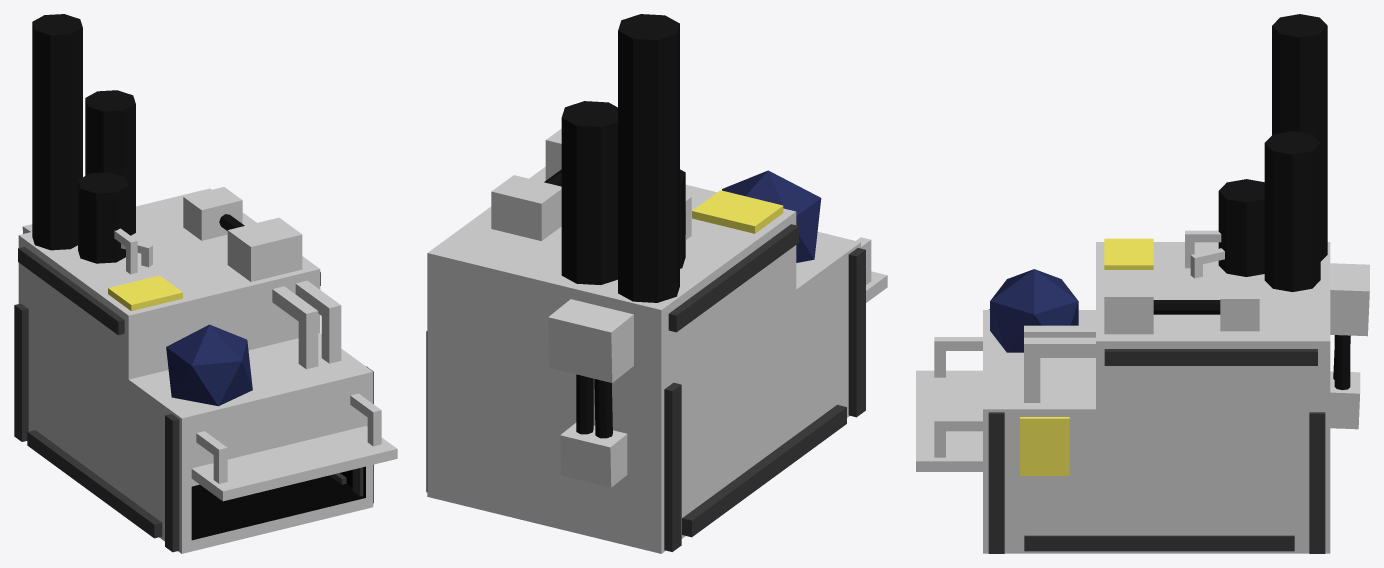
3 renders of one model, left to right at view 1: azimuth 30°, elevation 25°; view 2: azimuth 150°, elevation 25°; view 3: azimuth 270°, elevation 25°, orthographic. The views are drawn at different scales.
Visible parts, largest first — view 1: 立方体.001, 円柱.003, 立方体.018, ICO球, 立方体.005; view 2: 立方体.001, 円柱.003, 立方体.018, ICO球, 立方体.005; view 3: 立方体.001, 円柱.003, 立方体.018, ICO球, 立方体.005.
Boxes of the visible parts, bbox=[...] form: 立方体.001: bbox=[18, 187, 397, 553]; 円柱.003: bbox=[32, 14, 244, 263]; 立方体.018: bbox=[14, 246, 373, 552]; ICO球: bbox=[166, 324, 252, 406]; 立方体.005: bbox=[108, 275, 182, 310]; 立方体.001: bbox=[427, 128, 887, 553]; 円柱.003: bbox=[544, 14, 685, 438]; 立方体.018: bbox=[426, 224, 865, 551]; ICO球: bbox=[722, 170, 821, 262]; 立方体.005: bbox=[692, 190, 783, 233]; 立方体.001: bbox=[916, 230, 1369, 553]; 円柱.003: bbox=[1153, 14, 1350, 390]; 立方体.018: bbox=[988, 309, 1325, 553]; ICO球: bbox=[990, 269, 1078, 352]; 立方体.005: bbox=[1020, 238, 1153, 475].
Bounding box in the file's own units: 79.62 × 154 × 144.
